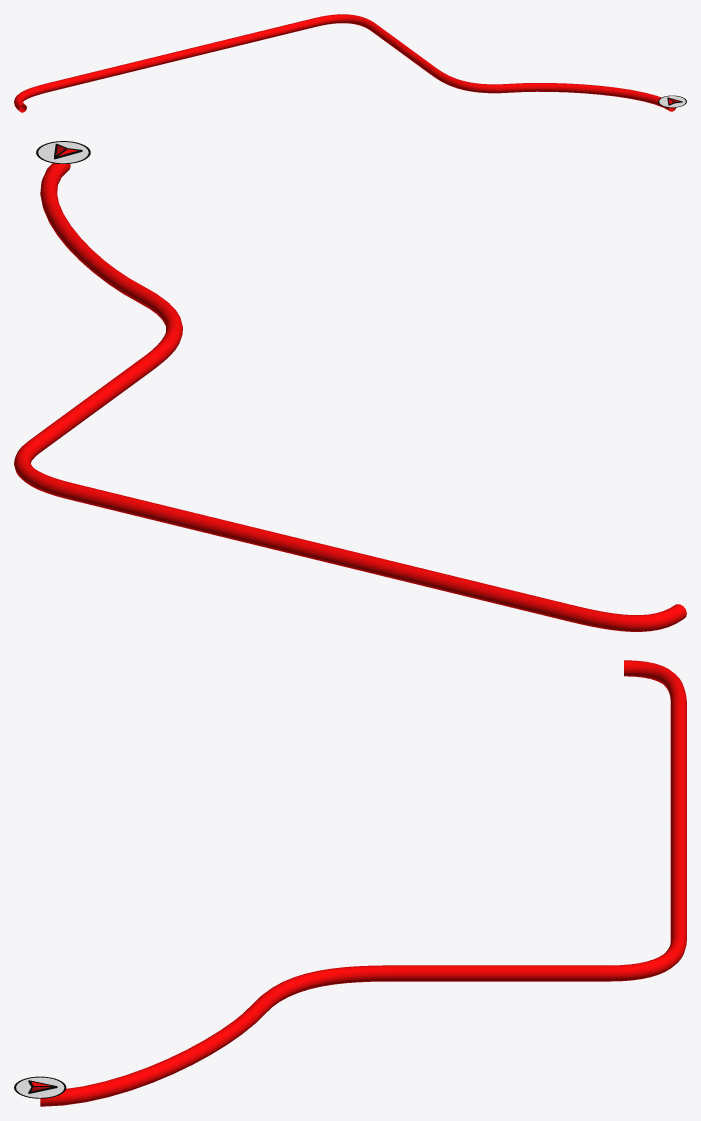
File: route_81a9820d-b4dc-46ff-8850-b5a06960009c_de_single.glb
The picture shows the model from 3 angles, top to bottom: view 1: azimuth 30°, elevation 25°; view 2: azimuth 150°, elevation 25°; view 3: azimuth 270°, elevation 25°; orthographic projection. The views are drawn at different scales.
Parts seen in each view (by area): view 1: A3, Abteil 1, Navipfeil.047; view 2: A3, Abteil 1, Navipfeil.047; view 3: A3, Abteil 1, Navipfeil.047.
Part boxes in pixels (x1,y1,x2,y2): A3, Abteil 1: [14, 14, 675, 112]; Navipfeil.047: [658, 95, 686, 107]; A3, Abteil 1: [14, 163, 686, 631]; Navipfeil.047: [36, 141, 90, 163]; A3, Abteil 1: [40, 660, 686, 1106]; Navipfeil.047: [14, 1076, 66, 1098].
Bounding box in the file's own units: 5.21 × 0.1062 × 3.33.
